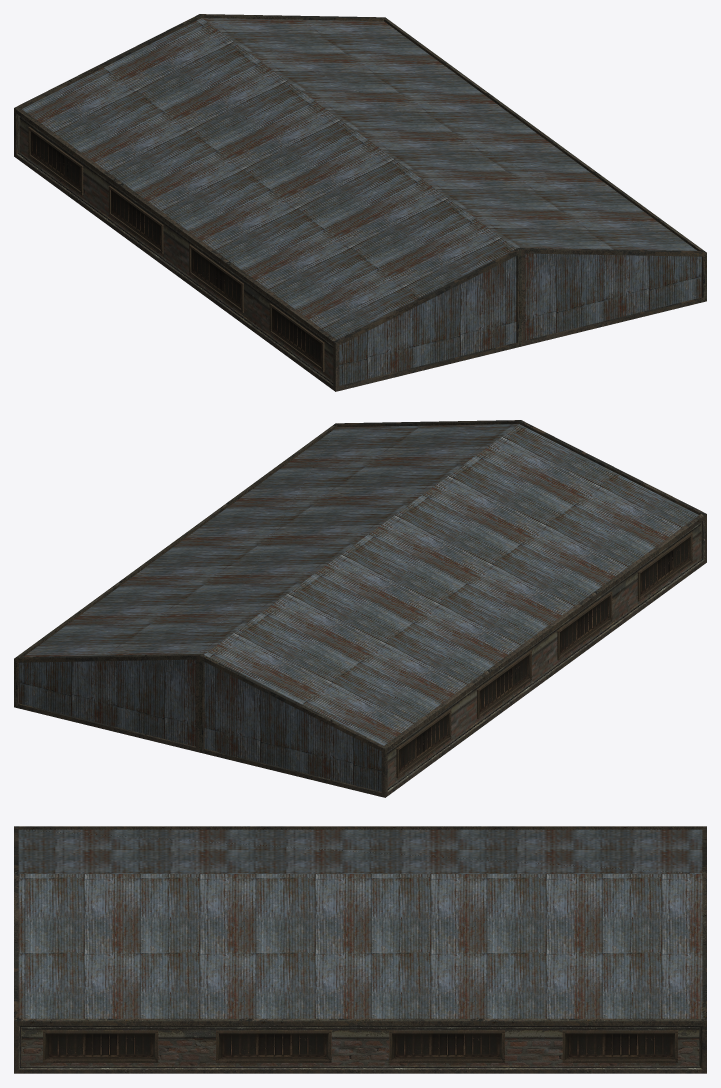
Rendered from roof_mh_4_a_3.obj.
3 renders of one model, top to bottom at view 1: azimuth 30°, elevation 25°; view 2: azimuth 150°, elevation 25°; view 3: azimuth 270°, elevation 25°, orthographic. The views are drawn at different scales.
Parts seen in each view (by area): view 1: roof_mh_4_a_3; view 2: roof_mh_4_a_3; view 3: roof_mh_4_a_3.
Part boxes in pixels (left/top/right/bottom): roof_mh_4_a_3: left=14, top=14, right=706, bottom=391; roof_mh_4_a_3: left=14, top=420, right=706, bottom=797; roof_mh_4_a_3: left=14, top=826, right=706, bottom=1073.
Bounding box in the file's own units: 8 × 2 × 12.
